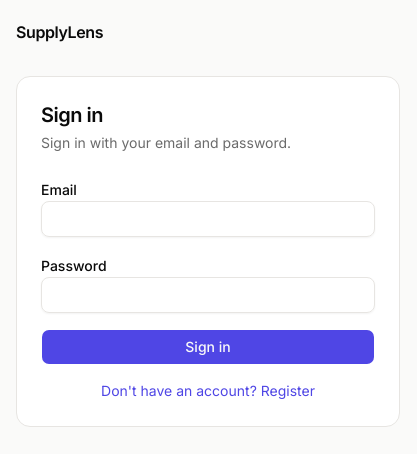
Test case: Login > mode toggle › toggling switches to register mode (with its own copy and password minLength), and back again
Click the button "Don't have an account? Register": (208, 390) [41, 380, 375, 400]
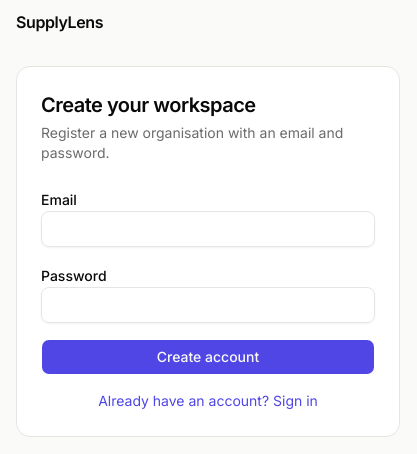
Expected: the heading "Create your workspace" is shown, [41, 92, 256, 116]
Expected: the button "Create account" is shown, [41, 338, 375, 374]
Click the button "Already have an account? Sign in": (208, 400) [41, 390, 375, 410]
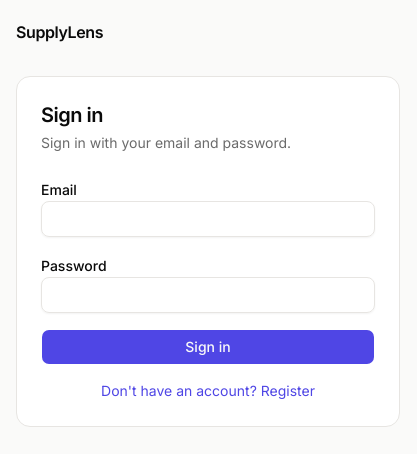
Expected: the heading "Sign in" is shown, [41, 102, 103, 126]
